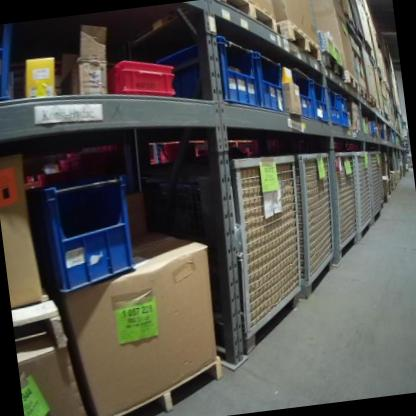pallet: (93, 352, 228, 416), (11, 295, 67, 356), (209, 0, 280, 44), (277, 13, 325, 70), (323, 49, 348, 85), (344, 69, 361, 97), (367, 93, 380, 113), (358, 83, 370, 103)
small_load_carrier: (37, 172, 141, 297), (152, 29, 261, 120), (105, 52, 180, 104), (252, 44, 288, 118), (0, 24, 25, 99), (287, 63, 315, 124), (310, 75, 330, 124), (324, 85, 343, 129), (338, 93, 351, 129)
stillage: (181, 139, 320, 363), (279, 146, 350, 304), (317, 146, 371, 268), (344, 147, 380, 245), (363, 150, 385, 224), (344, 0, 367, 48), (372, 147, 389, 211)
